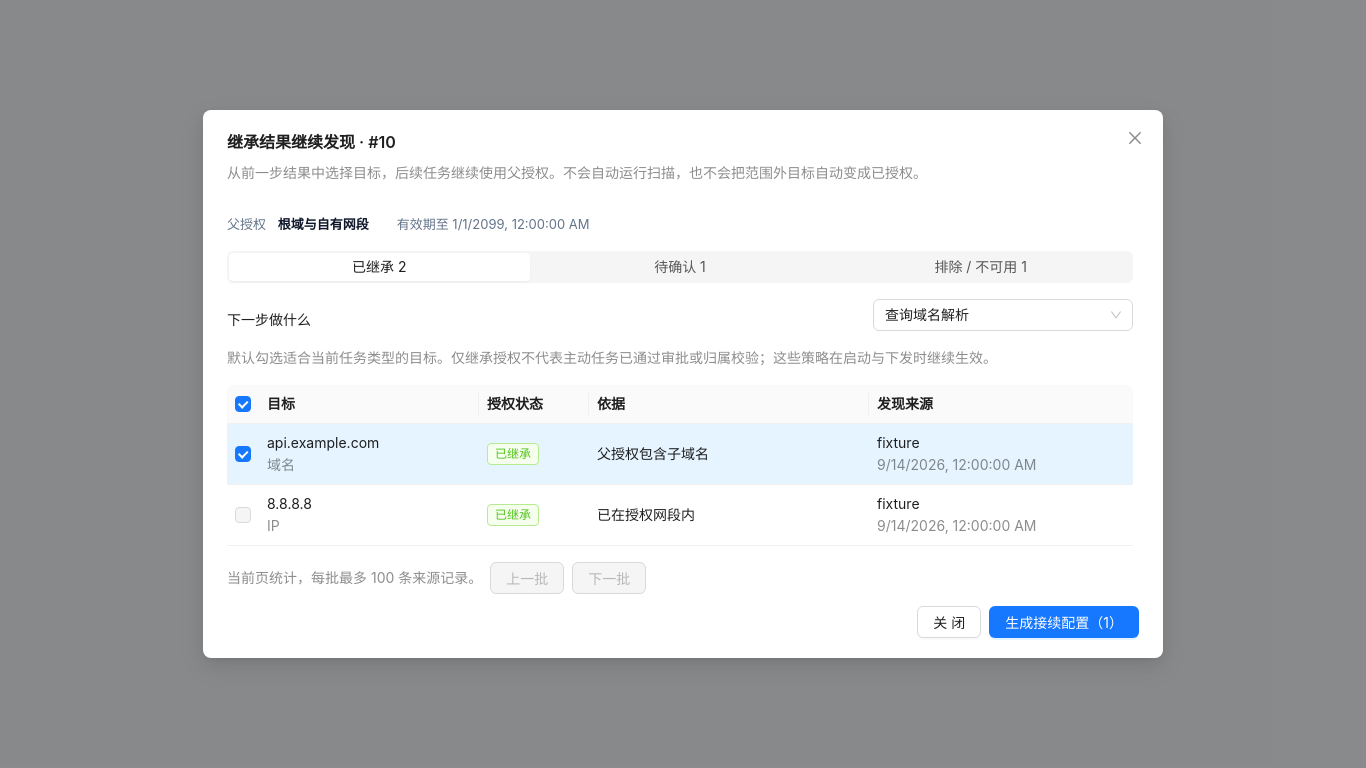
Test case: DerivedTargets › requires explicit checked confirmation to add pending IPs and refreshes inherited status
Expected: the text "api.example.com" is shown, [267,434,379,451]
Click the text "待确认 1": (680,266) [654,258,706,275]
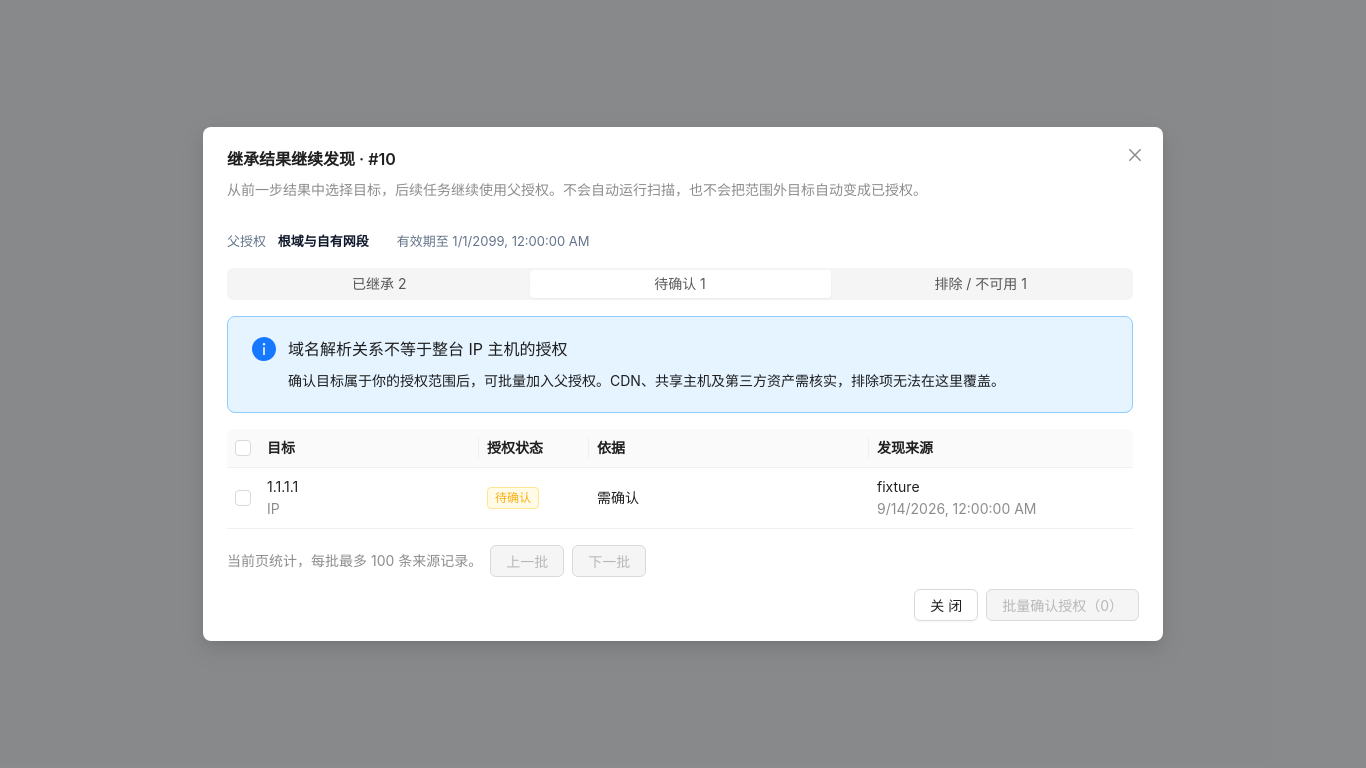
Click the checkbox next to "1.1.1.1": (243,498) [235,487,251,509]
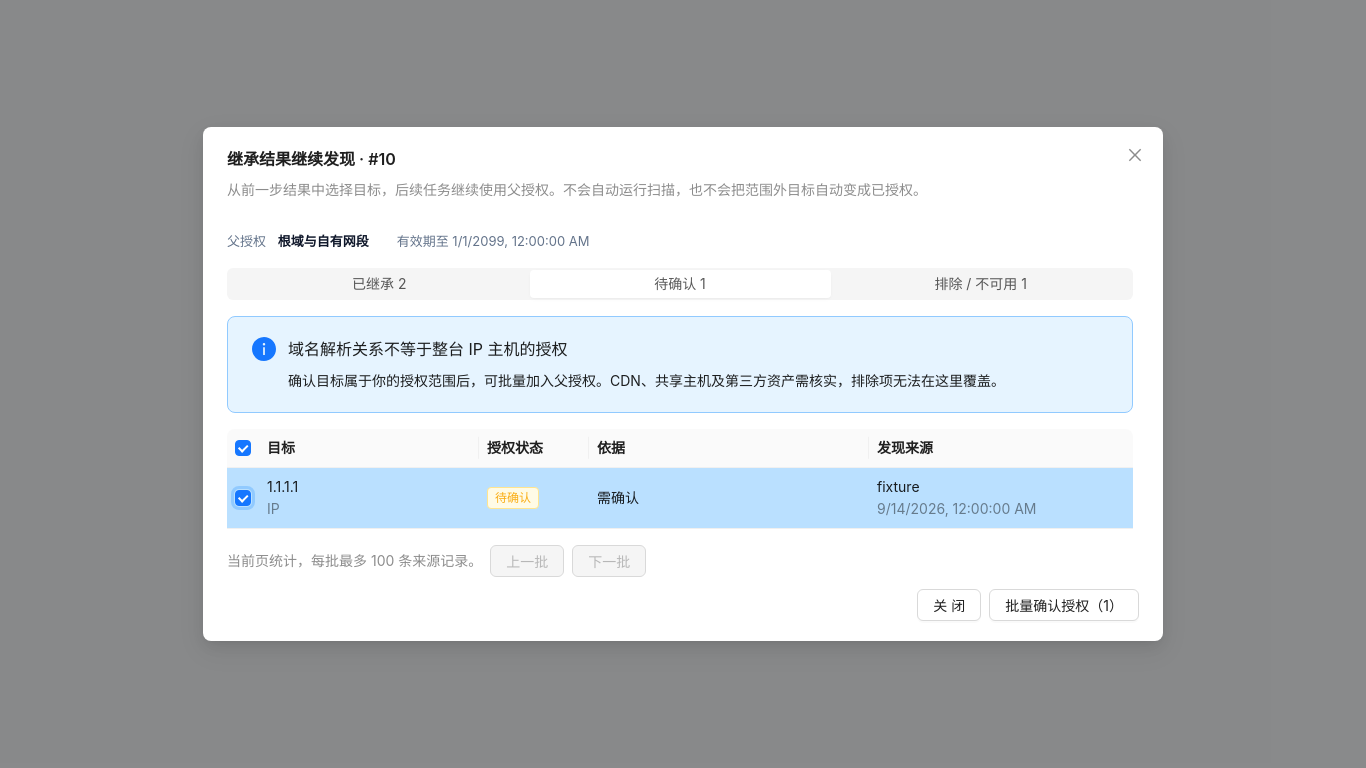
Click the button "批量确认授权（1）": (1064,605) [989,589,1139,621]
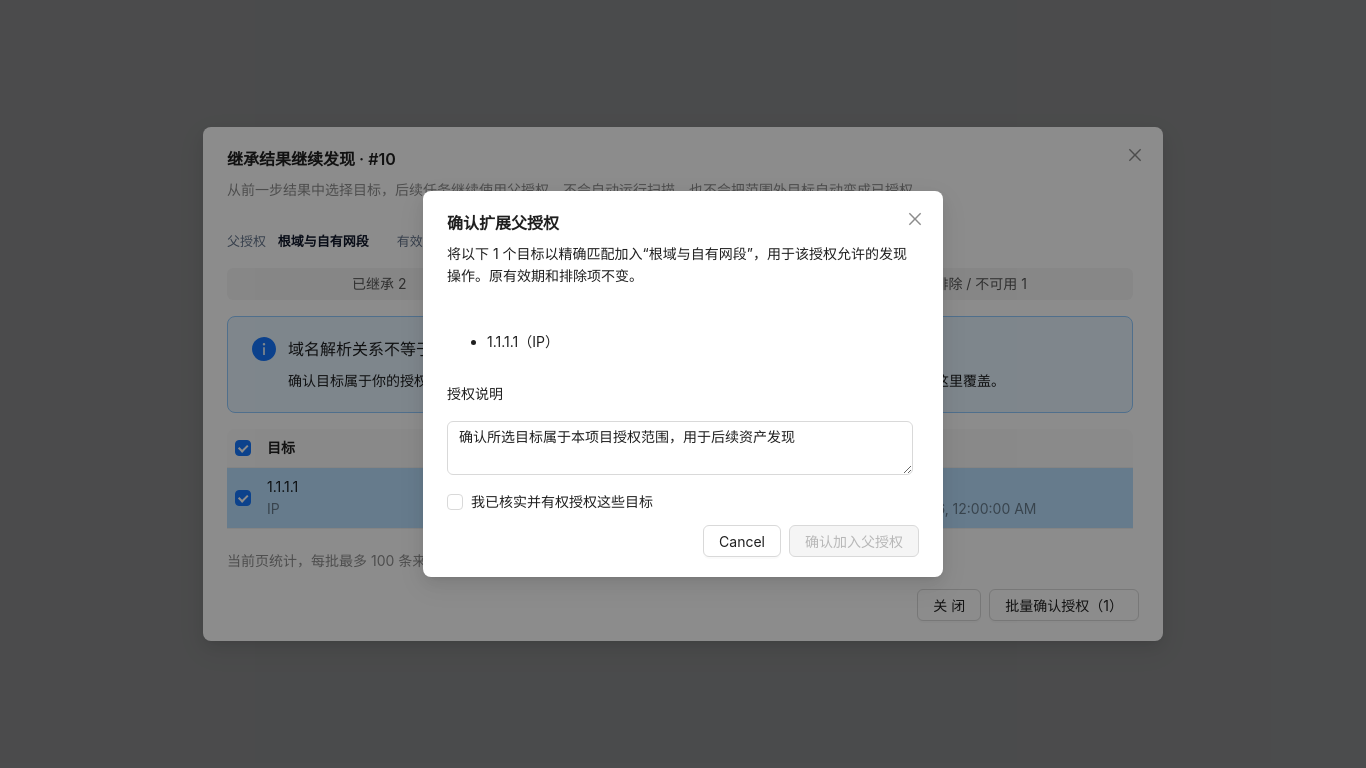
Expected: the button "确认加入父授权" is disabled, [789,525,919,557]
Click the 4th checkbox labelled "我已核实并有权授权这些目标": (554,502) [447,491,661,513]
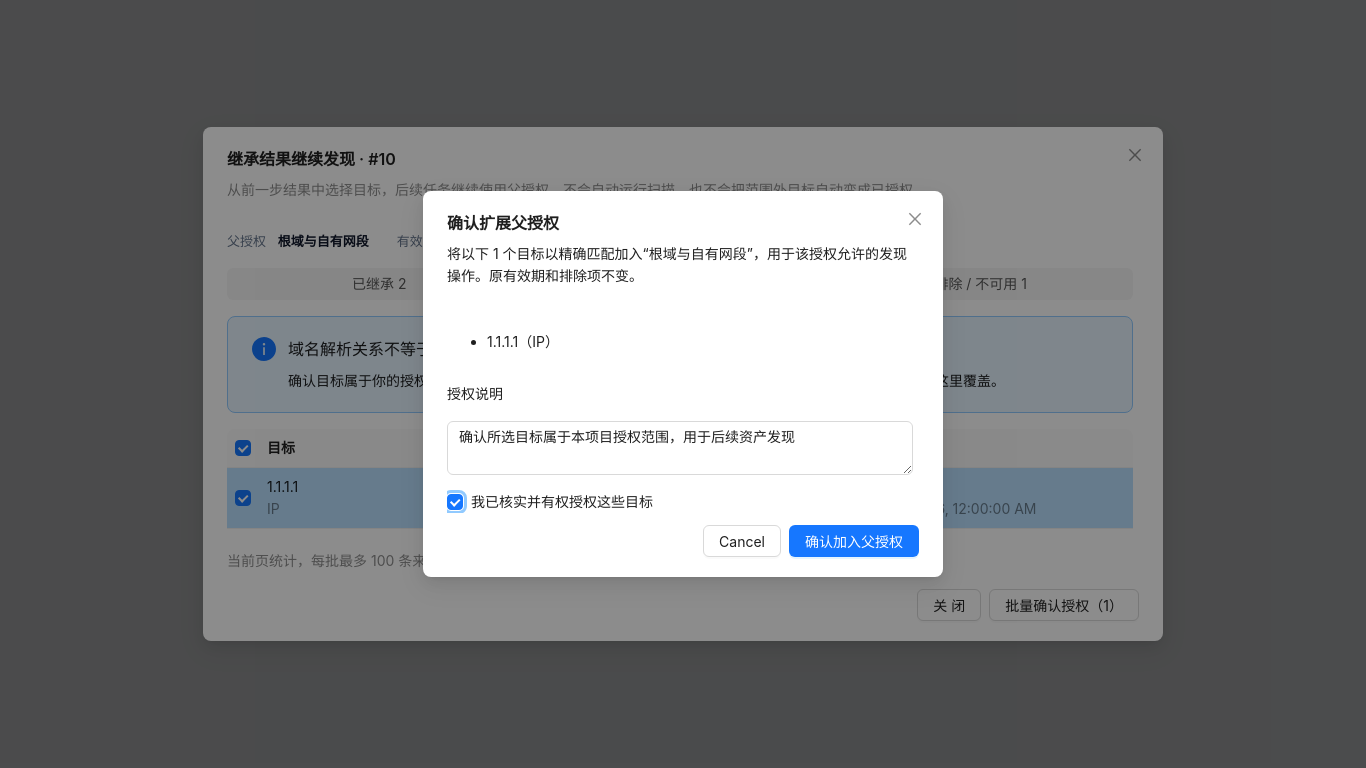
Click the button "确认加入父授权": (854,541) [789,525,919,557]
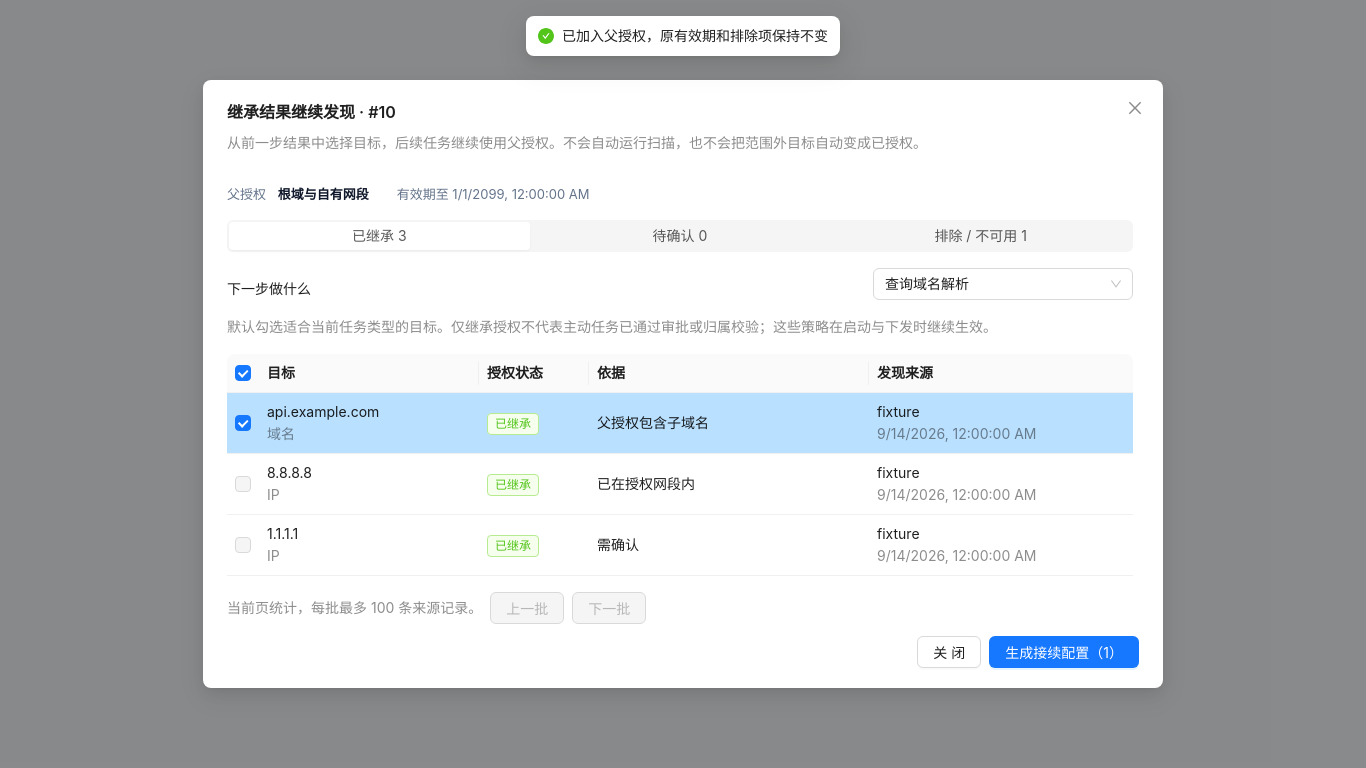
Expected: the text "已继承 3" is shown, [352,227,407,244]
